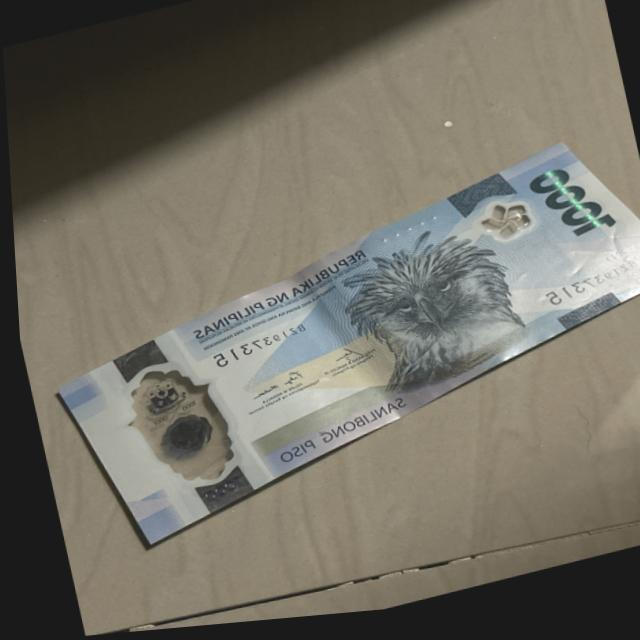clear_window: (119, 343, 242, 512)
eagle: (347, 209, 512, 405)
sampaguita: (470, 202, 540, 258)
serial_number: (179, 315, 308, 378), (525, 267, 640, 321)
value: (527, 160, 610, 253)
